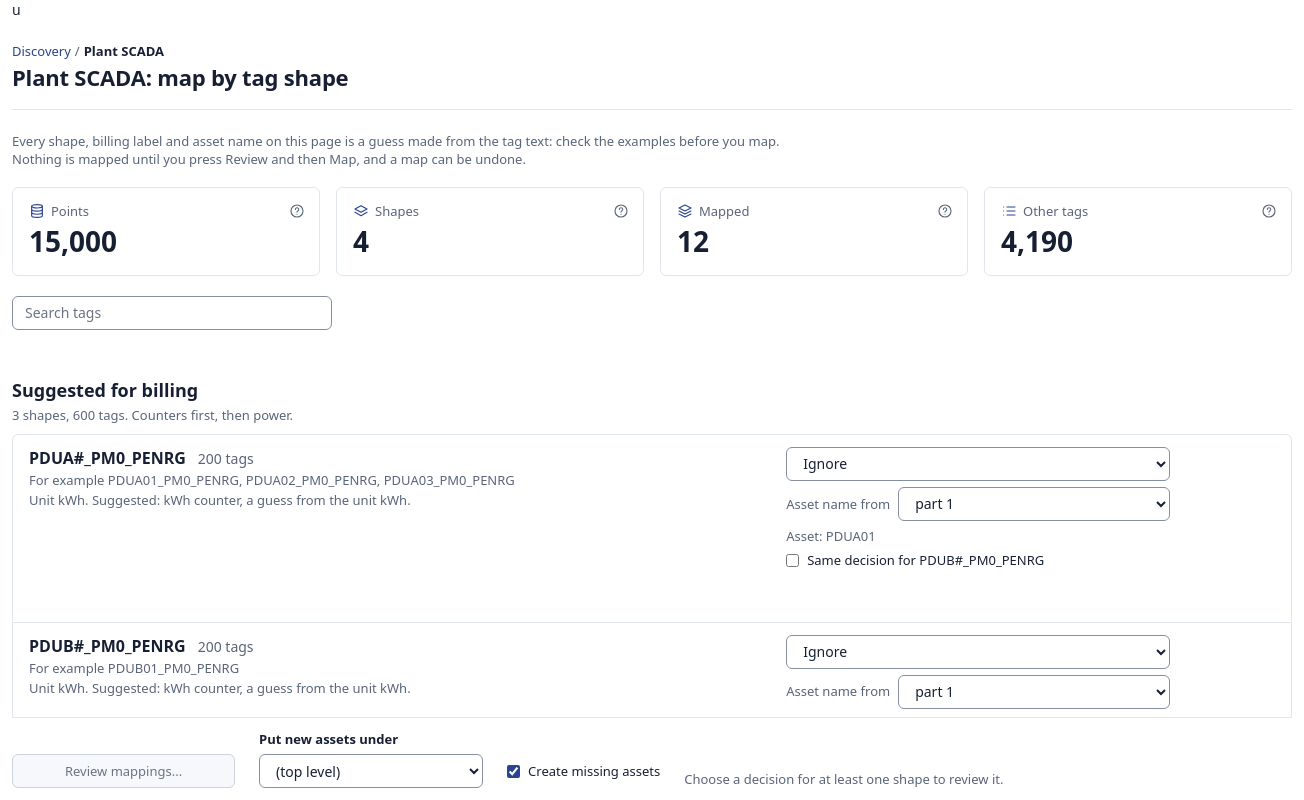
Test: SourceShapesPage: the decisions › counts the tags the chosen decisions cover on the button, aria-disabled while nothing is chosen
Expected: the heading "Plant SCADA: map by tag shape" is shown, 12,62 -> 348,92
Expected: the element named "Shape PDUA#_PM0_PENRG" is shown, 13,435 -> 1291,623
Click the button "Review mappings...": (124, 771) 12,754 -> 235,788
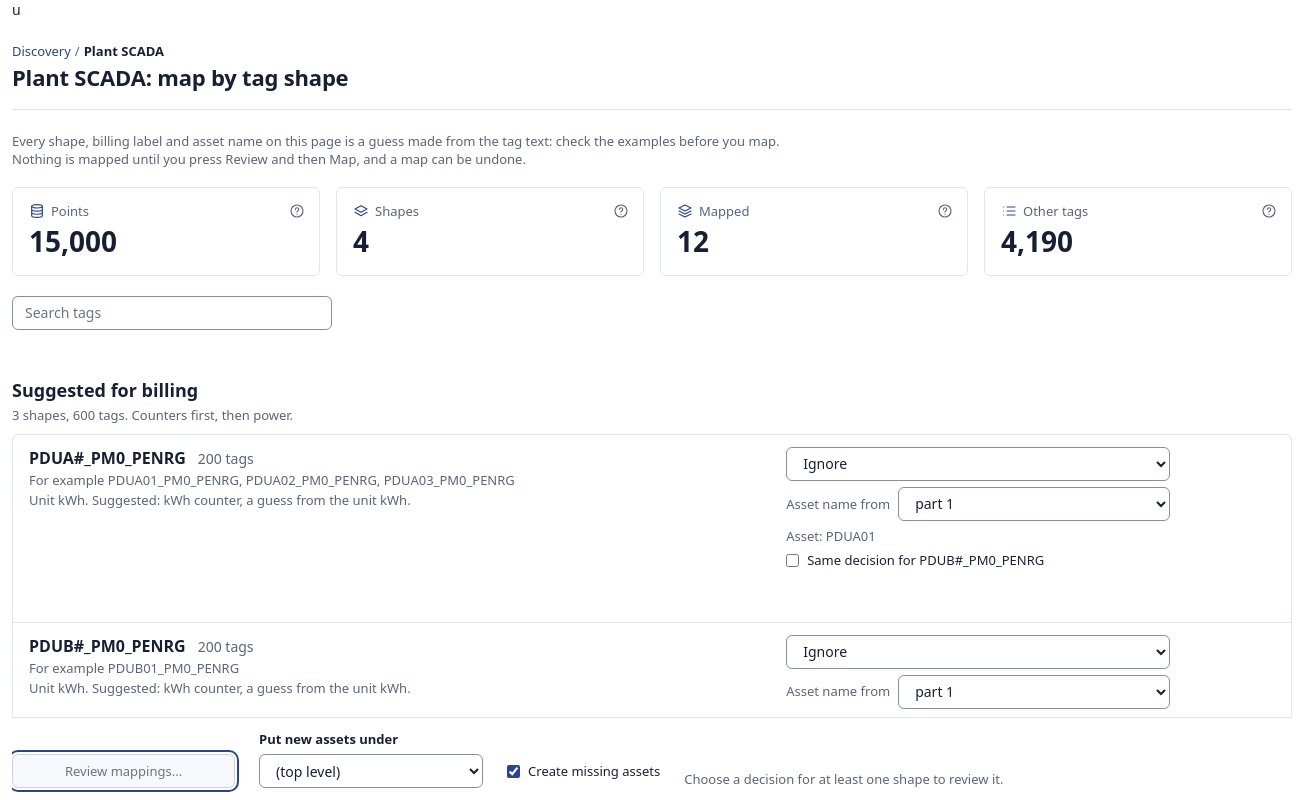
Select "Map as energy counter" in the dropdown named "Decision for PDUA#_PM0_PENRG": (978, 464) 786,447 -> 1170,481
(page scrolled)
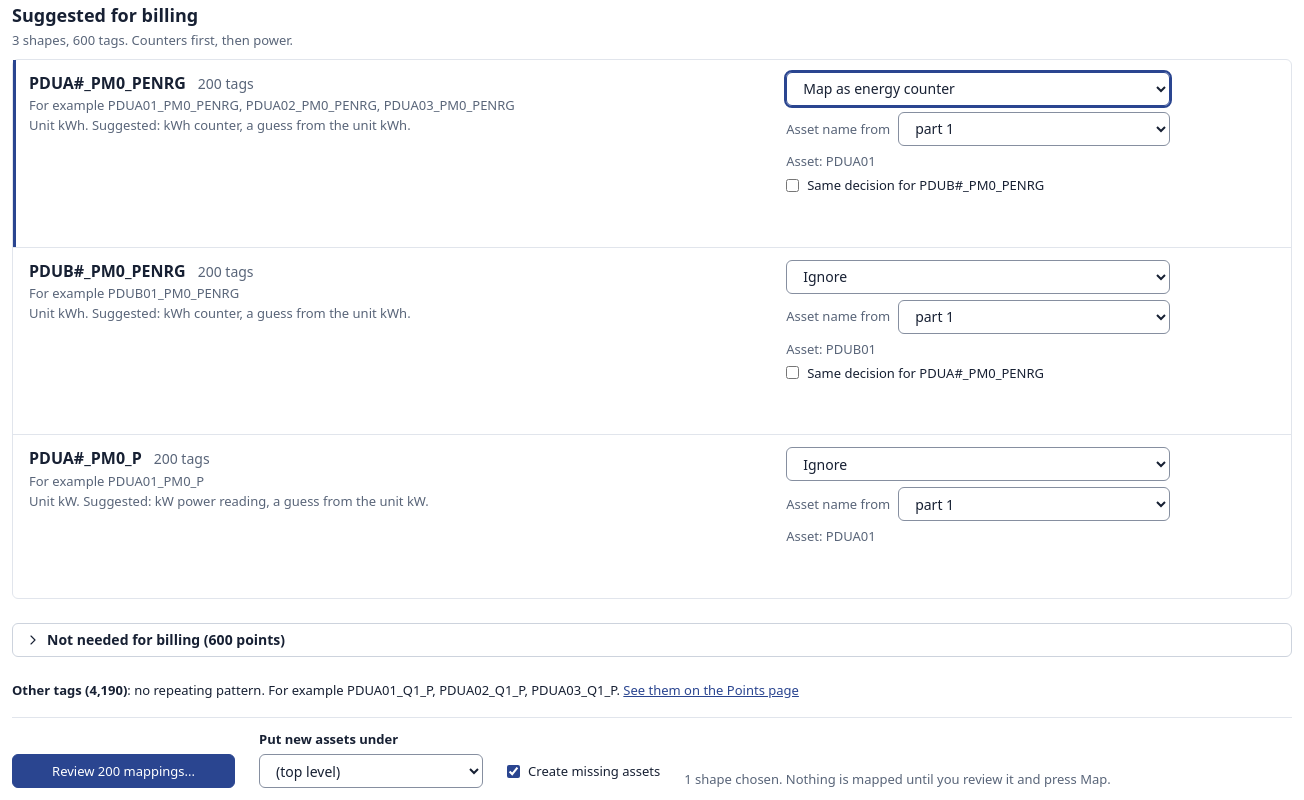
Expected: the button "Review 200 mappings..." is shown, 12,754 -> 235,788
Select "Map as active power" in the dropdown named "Decision for PDUA#_PM0_P": (978, 464) 786,447 -> 1170,481
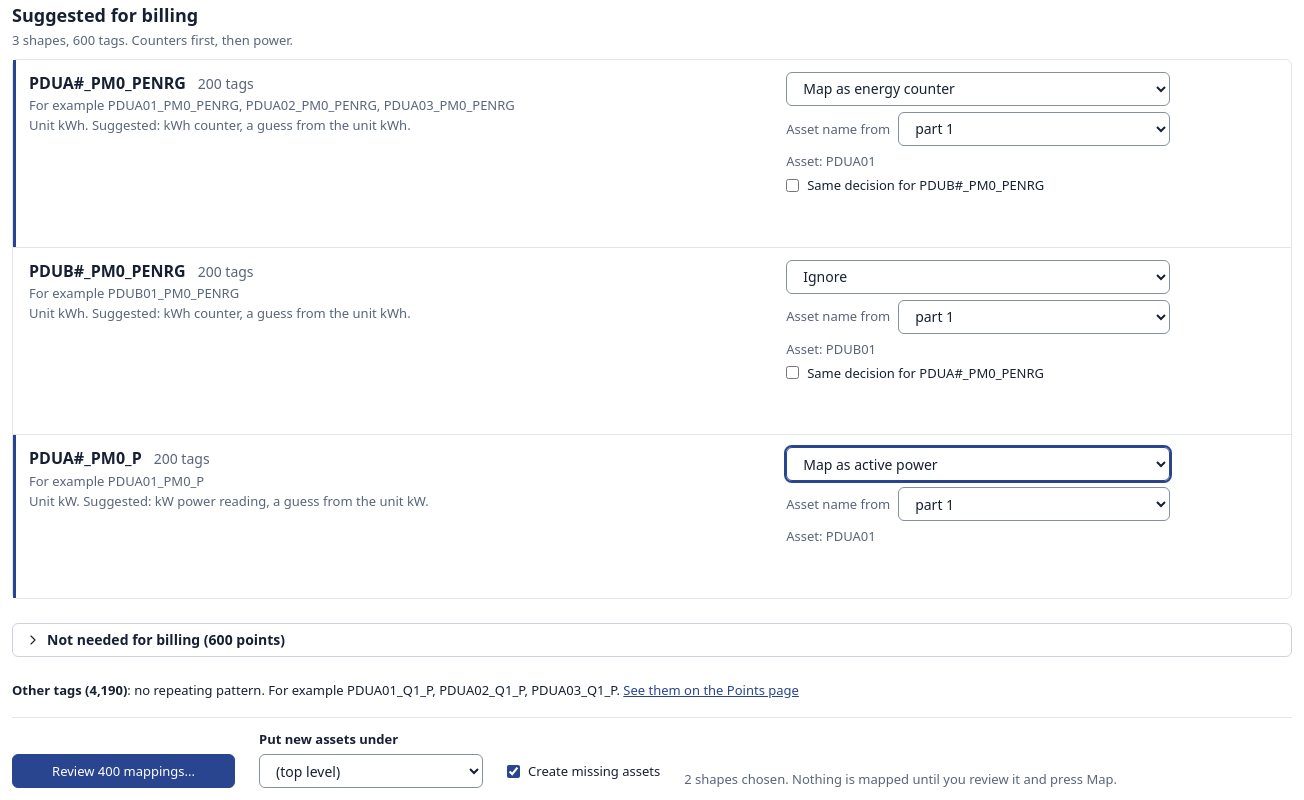
Expected: the button "Review 400 mappings..." is shown, 12,754 -> 235,788
